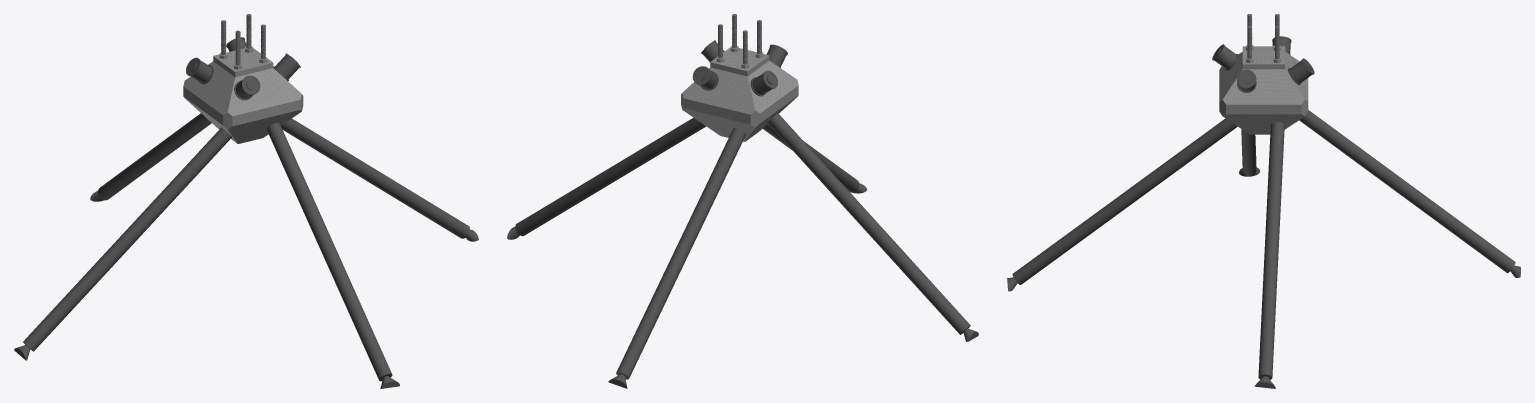
The model's file is pen-foundation.glb.
3 views of the same model, side by side, from view 1: azimuth 30°, elevation 25°; view 2: azimuth 150°, elevation 25°; view 3: azimuth 270°, elevation 25° (orthographic). The views are drawn at different scales.
Parts seen in each view (by area): view 1: Mesh22_n3d, Mesh18_n3d, Mesh7_n3d, Mesh26_n3d, Mesh14_n3d, Mesh1_n3d, Mesh6_n3d, Mesh28_n3d, Mesh16_n3d, Mesh24_n3d; view 2: Mesh22_n3d, Mesh14_n3d, Mesh7_n3d, Mesh26_n3d, Mesh1_n3d, Mesh6_n3d, Mesh18_n3d, Mesh28_n3d, Mesh20_n3d; view 3: Mesh18_n3d, Mesh26_n3d, Mesh14_n3d, Mesh7_n3d, Mesh1_n3d, Mesh6_n3d, Mesh22_n3d.
Boxes of the visible parts, box(x1,y1,x2,y2) form: Mesh22_n3d: box(23, 69, 285, 351); Mesh18_n3d: box(266, 122, 392, 381); Mesh7_n3d: box(183, 61, 303, 121); Mesh26_n3d: box(281, 118, 469, 238); Mesh14_n3d: box(97, 113, 211, 200); Mesh1_n3d: box(183, 91, 303, 143); Mesh6_n3d: box(213, 48, 273, 77); Mesh28_n3d: box(186, 57, 213, 84); Mesh16_n3d: box(234, 75, 260, 100); Mesh24_n3d: box(273, 53, 300, 80); Mesh22_n3d: box(768, 113, 970, 334); Mesh14_n3d: box(616, 128, 745, 379); Mesh7_n3d: box(681, 60, 798, 119); Mesh26_n3d: box(515, 117, 705, 236); Mesh1_n3d: box(681, 90, 798, 141); Mesh6_n3d: box(710, 47, 769, 76); Mesh18_n3d: box(762, 124, 859, 192); Mesh28_n3d: box(750, 70, 777, 96); Mesh20_n3d: box(692, 66, 718, 90); Mesh18_n3d: box(1012, 80, 1295, 284); Mesh26_n3d: box(1258, 122, 1284, 379); Mesh14_n3d: box(1233, 61, 1515, 273); Mesh7_n3d: box(1219, 52, 1308, 109); Mesh1_n3d: box(1219, 107, 1308, 134); Mesh6_n3d: box(1242, 46, 1285, 69); Mesh22_n3d: box(1241, 129, 1256, 176).
Bounding box in the file's own units: 9.14 × 5.15 × 9.18.
Materials: 4 (3 with a texture image).
